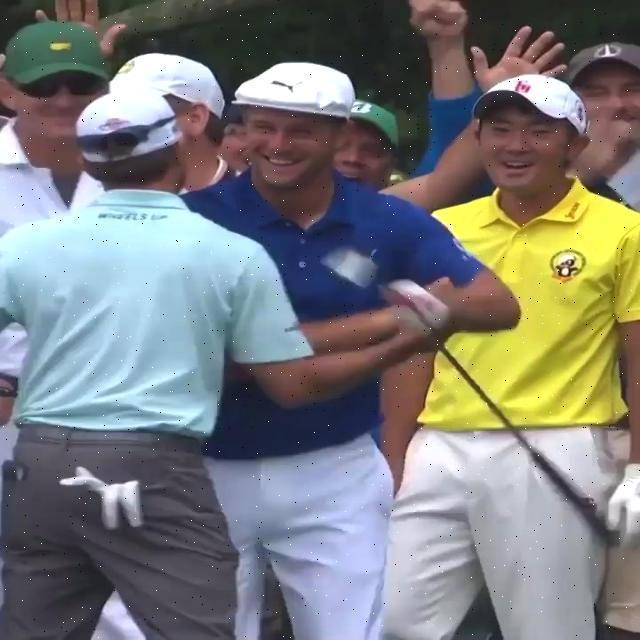ClubHead: (324, 248, 382, 294)
